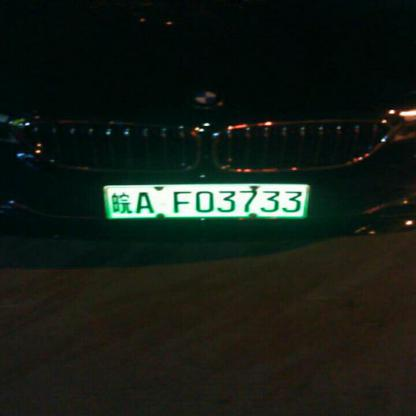lp: (104, 184, 309, 222)
